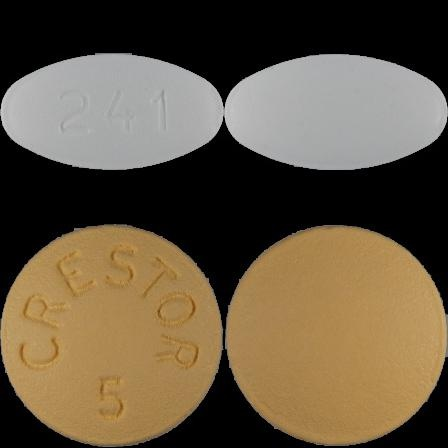63629-4306: (0, 0, 224, 224)
